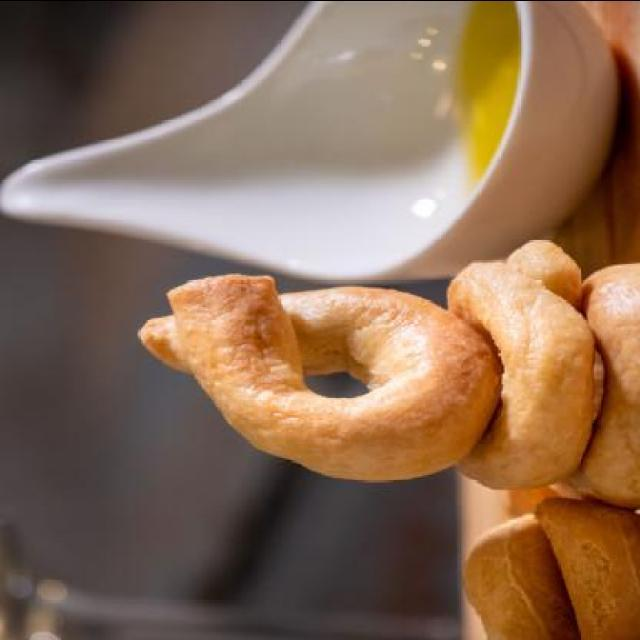Taralli: (126, 270, 497, 488)
